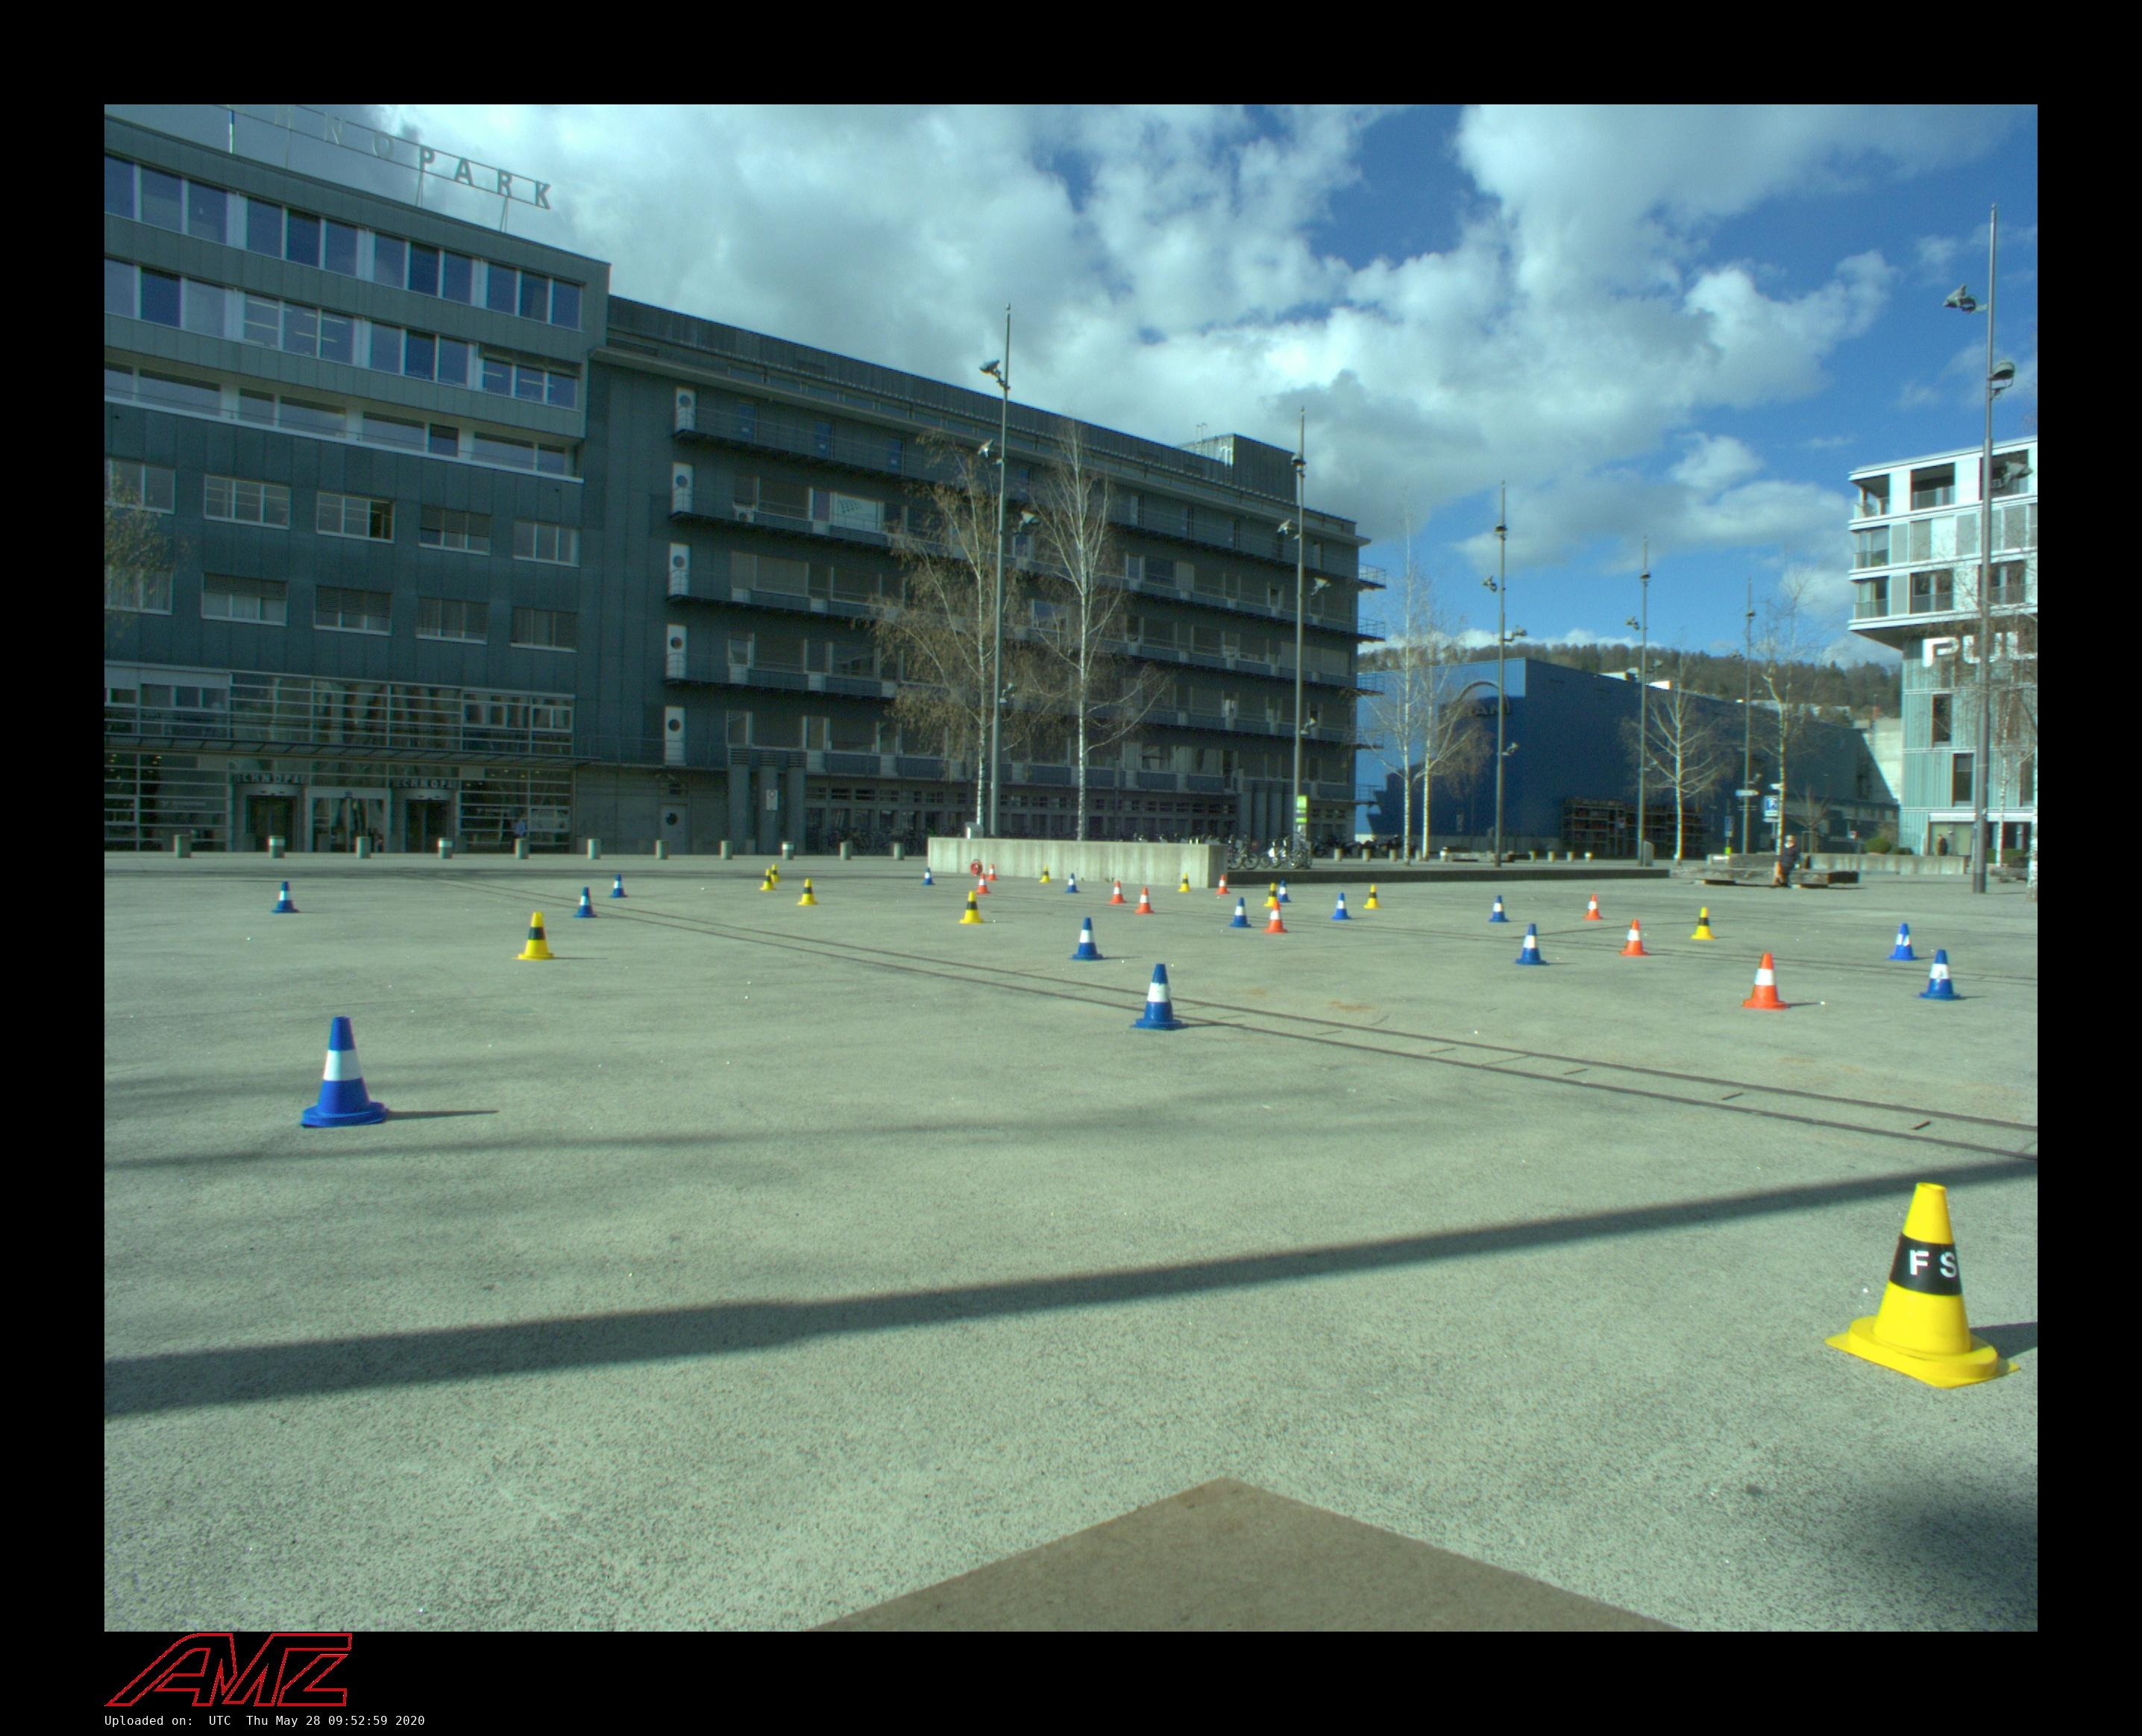blue_cone: (301, 1015, 392, 1127), (1130, 964, 1189, 1033), (1913, 948, 1963, 1001), (1068, 918, 1106, 960), (1515, 923, 1548, 965), (1887, 923, 1921, 960), (271, 880, 299, 914), (1228, 896, 1254, 928), (572, 887, 599, 918), (1488, 895, 1509, 923), (1331, 893, 1352, 919), (609, 873, 627, 898), (1276, 880, 1292, 903), (1065, 873, 1081, 893), (921, 868, 934, 886)
orange_cone: (1742, 953, 1793, 1010), (1619, 919, 1649, 955), (1263, 902, 1288, 934), (1134, 887, 1155, 914), (1584, 895, 1603, 919), (1109, 880, 1127, 903), (1215, 875, 1231, 895), (976, 873, 990, 895), (987, 863, 997, 880)
yellow_cone: (1825, 1183, 2023, 1391), (512, 911, 560, 960), (1690, 905, 1715, 941), (958, 891, 983, 923), (797, 879, 819, 905), (1364, 884, 1382, 909), (1265, 882, 1281, 907), (760, 868, 776, 891), (1178, 873, 1192, 891), (769, 863, 781, 882), (1040, 866, 1052, 882)
